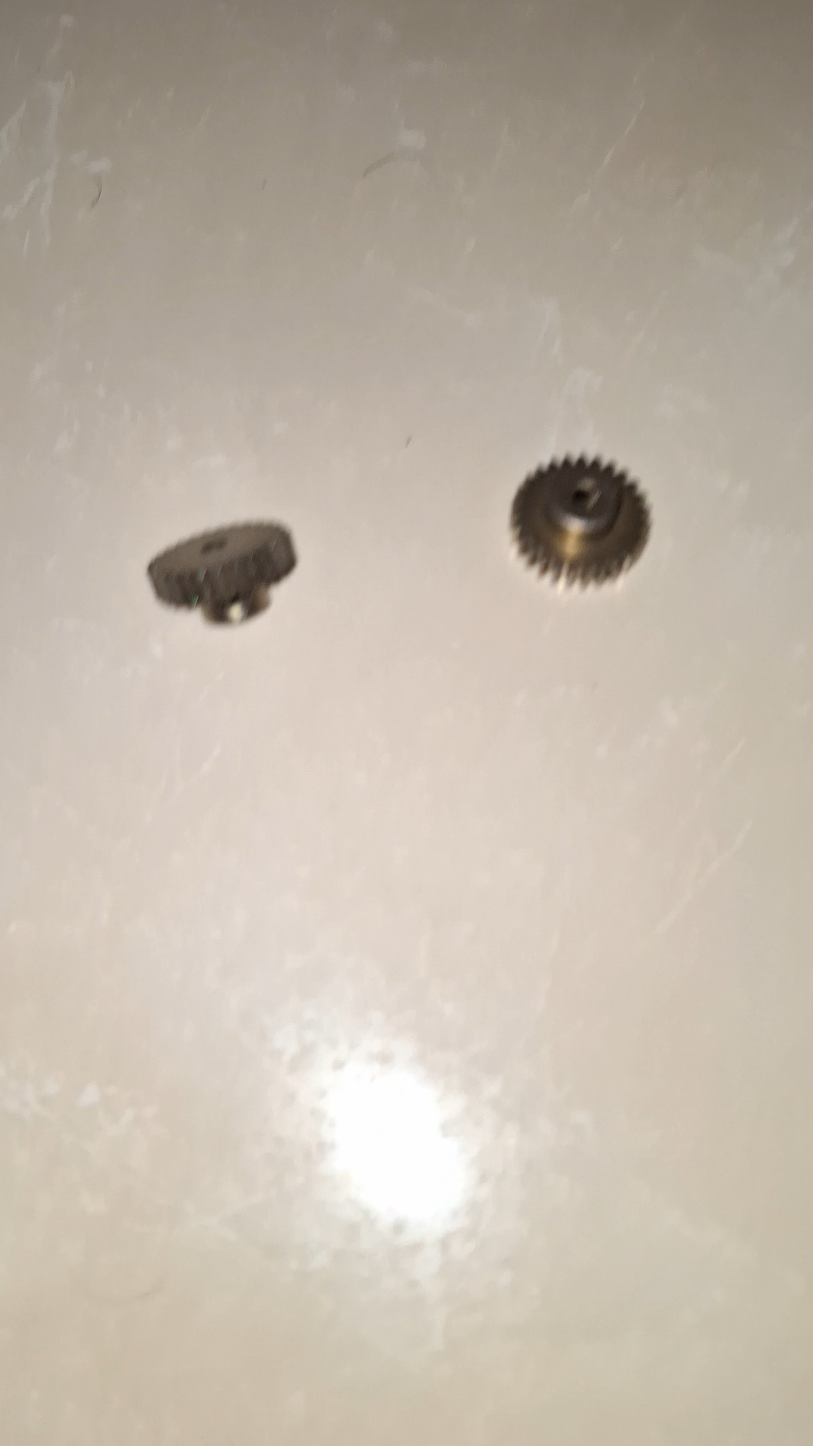spur gear: (511, 456, 649, 585), (148, 522, 295, 622)
